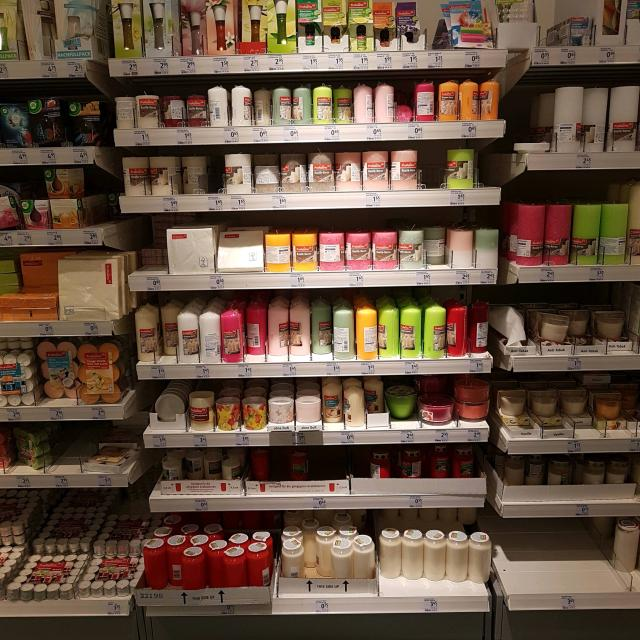empty: (510, 506, 600, 598), (310, 445, 367, 493), (416, 140, 449, 201)
